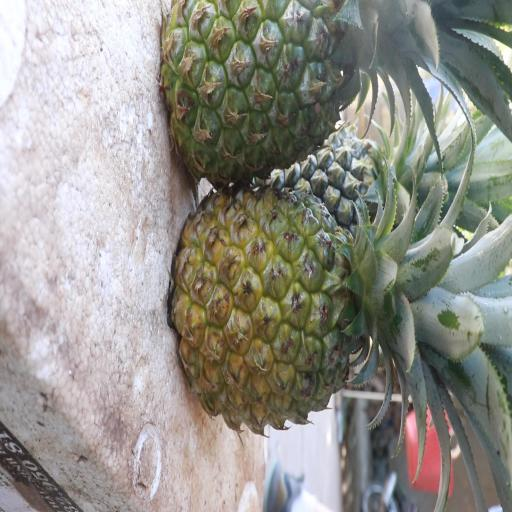------------------------------: (162, 0, 380, 185)
Pineapple - v8 v1: (180, 189, 416, 431)
